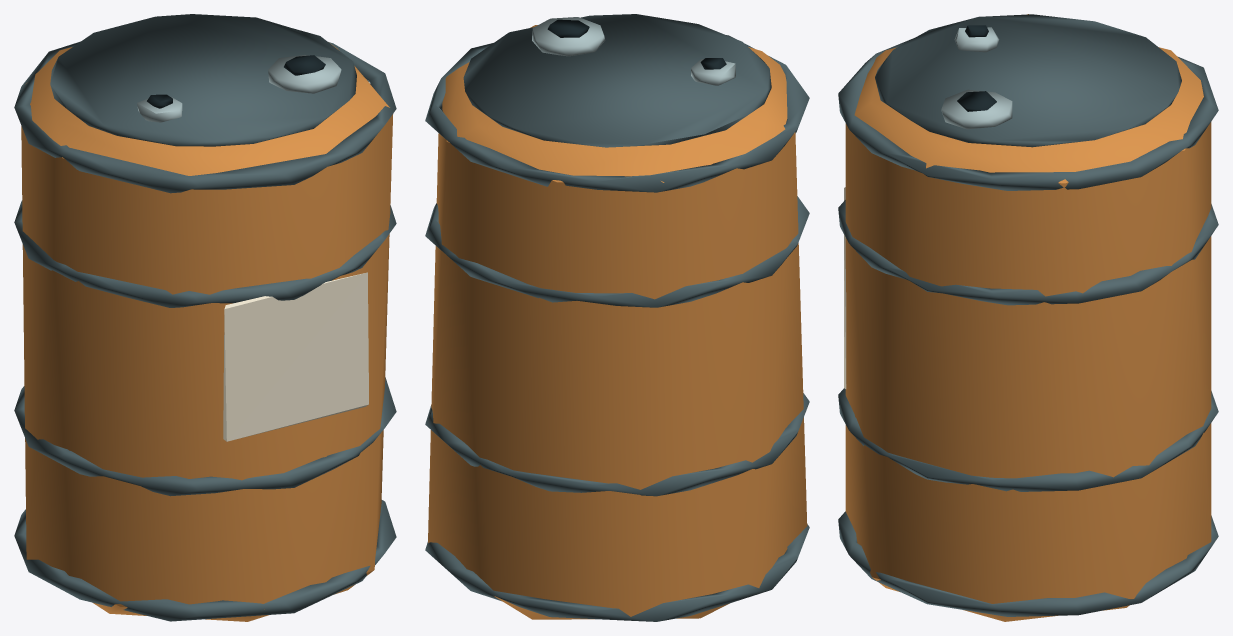
Rendered from fuel-drum.low.glb.
3 renders of one model, left to right at view 1: azimuth 30°, elevation 25°; view 2: azimuth 150°, elevation 25°; view 3: azimuth 270°, elevation 25°, orthographic.
Parts seen in each view (by area): view 1: geometry:body:0, geometry:body:1, geometry:body:4, geometry:body:2, geometry:body:3; view 2: geometry:body:0, geometry:body:1, geometry:body:2, geometry:body:3; view 3: geometry:body:0, geometry:body:1, geometry:body:2, geometry:body:3.
Boxes of the visible parts, x1=… form: geometry:body:0: x1=21, y1=43, x2=392, y2=621; geometry:body:1: x1=14, y1=14, x2=396, y2=621; geometry:body:4: x1=223, y1=272, x2=368, y2=441; geometry:body:2: x1=137, y1=54, x2=341, y2=122; geometry:body:3: x1=147, y1=55, x2=325, y2=108; geometry:body:0: x1=428, y1=25, x2=807, y2=619; geometry:body:1: x1=425, y1=14, x2=809, y2=621; geometry:body:2: x1=532, y1=17, x2=735, y2=85; geometry:body:3: x1=547, y1=19, x2=726, y2=69; geometry:body:0: x1=845, y1=14, x2=1211, y2=621; geometry:body:1: x1=838, y1=14, x2=1218, y2=616; geometry:body:2: x1=941, y1=27, x2=1012, y2=129; geometry:body:3: x1=957, y1=25, x2=996, y2=111.
Bounding box in the file's own units: 0.658 × 0.946 × 0.664.
